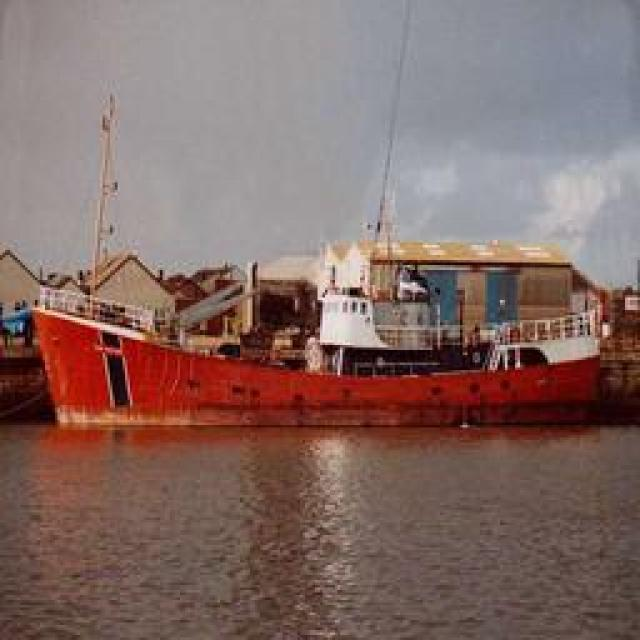CIV_Ship: (15, 240, 625, 435)
